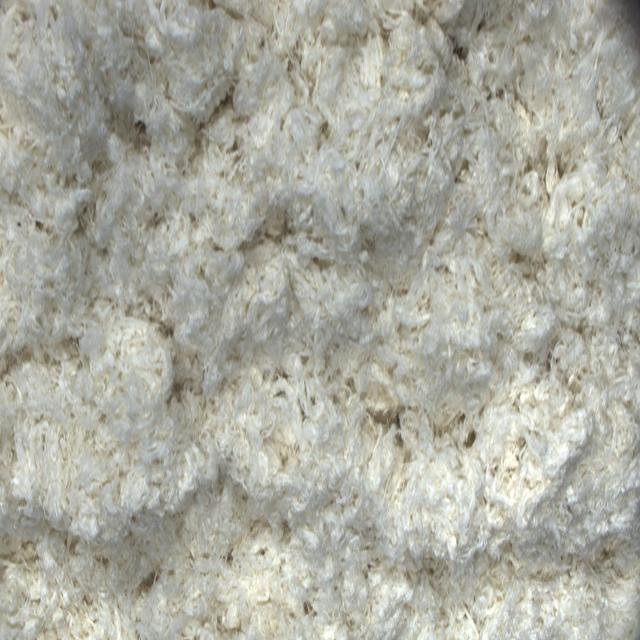dust: (450, 35, 478, 68)
